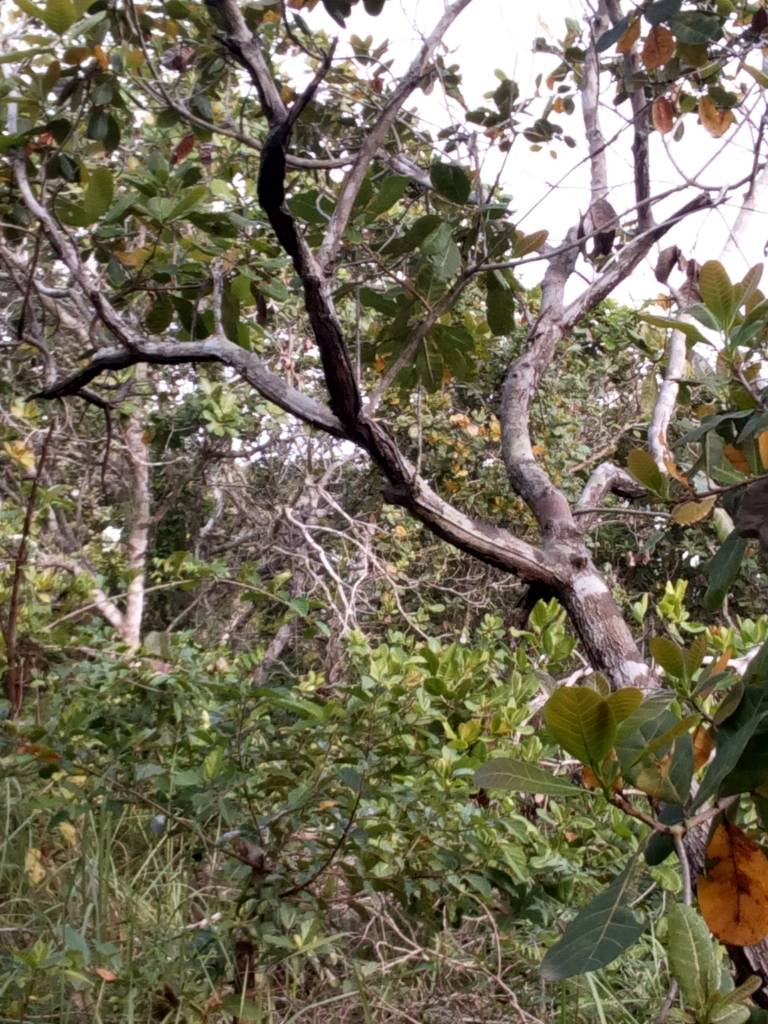Alternariose: (694, 814, 765, 947), (641, 24, 677, 72)
